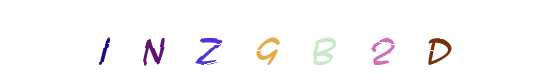2: (279, 0, 359, 80)
9: (242, 0, 322, 80)
B: (274, 0, 354, 80)
D: (398, 0, 478, 80)
I: (100, 0, 180, 80)
N: (163, 0, 243, 80)
Z: (237, 0, 317, 80)
